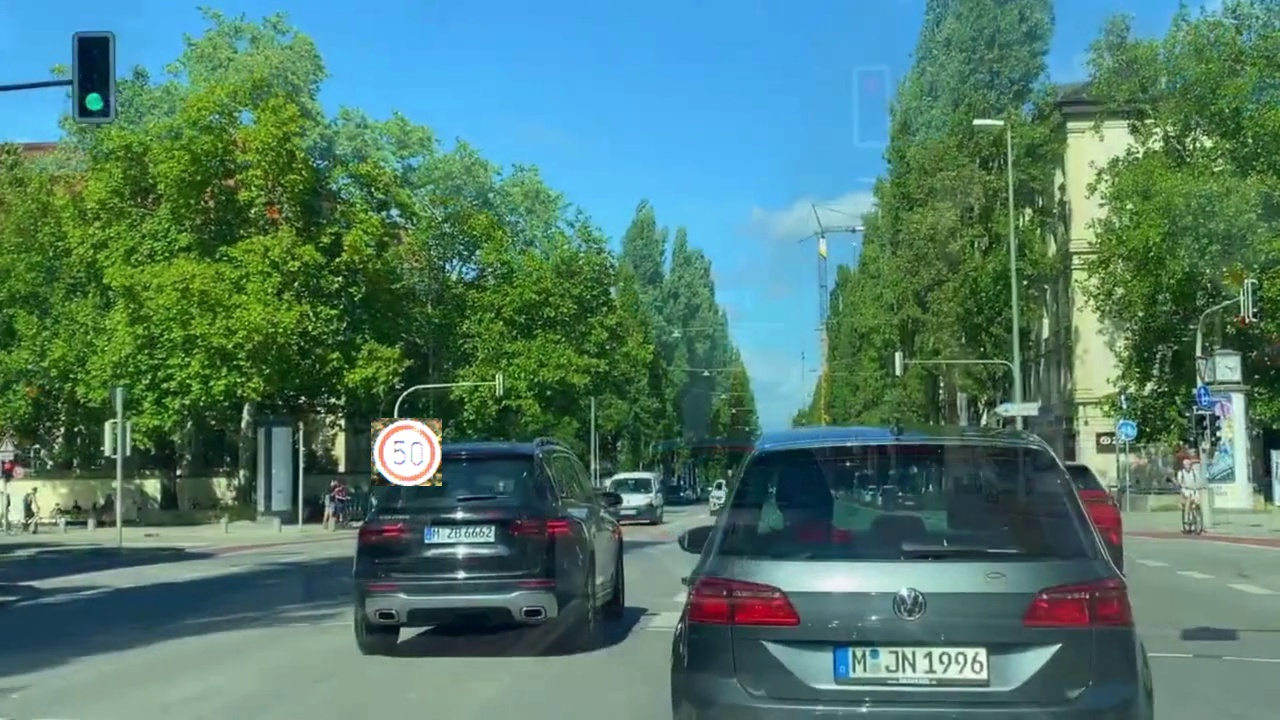Speed 50: (371, 418, 442, 486)
